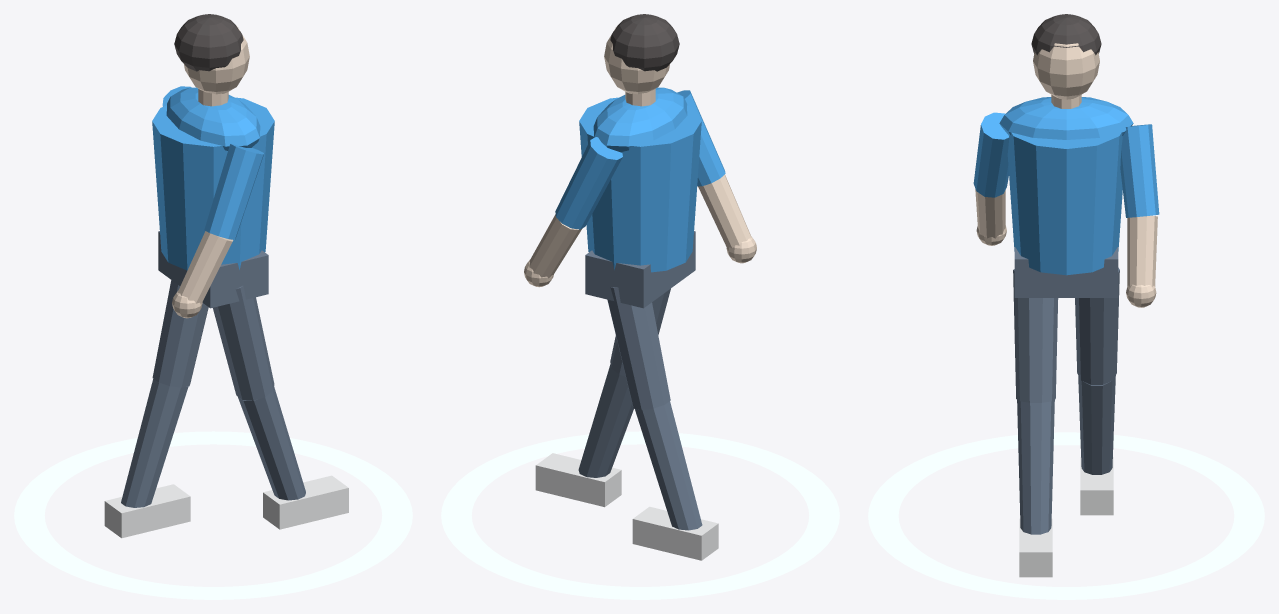
File: walker.glb
The picture shows the model from 3 angles, left to right: view 1: azimuth 30°, elevation 25°; view 2: azimuth 150°, elevation 25°; view 3: azimuth 270°, elevation 25°; orthographic projection.
Parts seen in each view (by area): view 1: novanav_walker; view 2: novanav_walker; view 3: novanav_walker.
Boxes of the visible parts, x1=… form: novanav_walker: x1=14, y1=14, x2=412, y2=599; novanav_walker: x1=441, y1=14, x2=839, y2=599; novanav_walker: x1=868, y1=14, x2=1264, y2=599.
Size of the model in its own units: 1.3 by 1.82 by 1.3.
